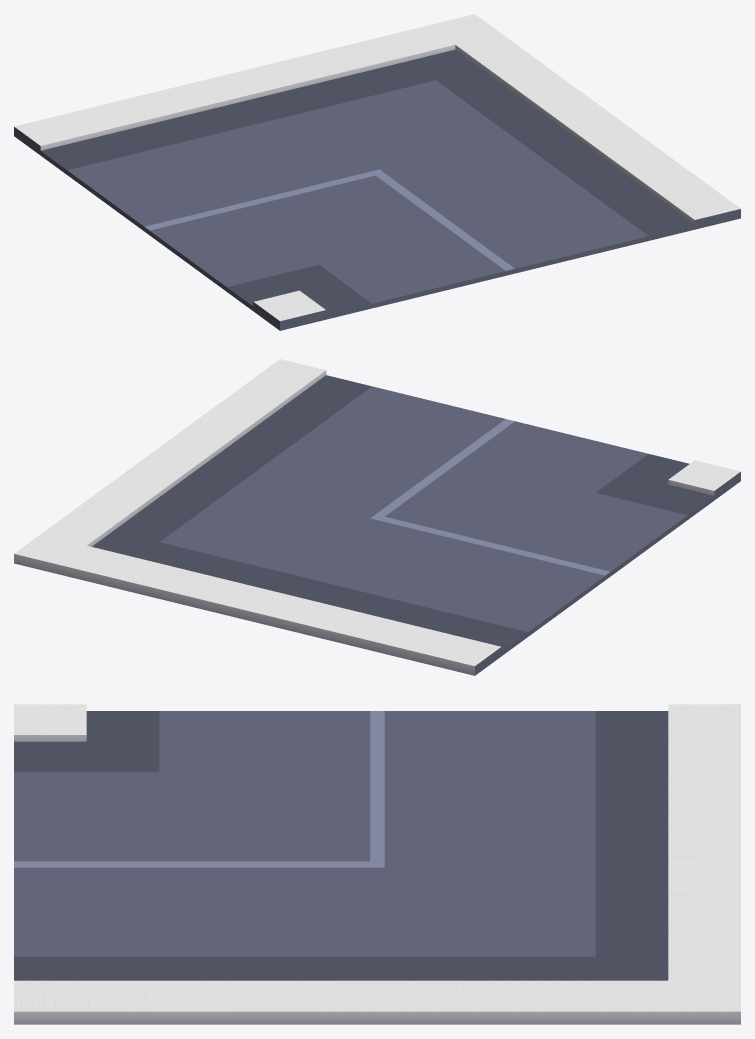
Rendered from road-bend-square.glb.
3 views of the same model, one above another, from view 1: azimuth 30°, elevation 25°; view 2: azimuth 150°, elevation 25°; view 3: azimuth 270°, elevation 25° (orthographic). The views are drawn at different scales.
Visible parts, largest first — view 1: road-bend-square; view 2: road-bend-square; view 3: road-bend-square.
Part boxes in pixels (bbox=[...]): road-bend-square: bbox=[14, 14, 740, 330]; road-bend-square: bbox=[14, 359, 740, 675]; road-bend-square: bbox=[14, 704, 740, 1024].
Bounding box in the file's own units: 1 × 0.02 × 1.
1 material, 1 textured.
